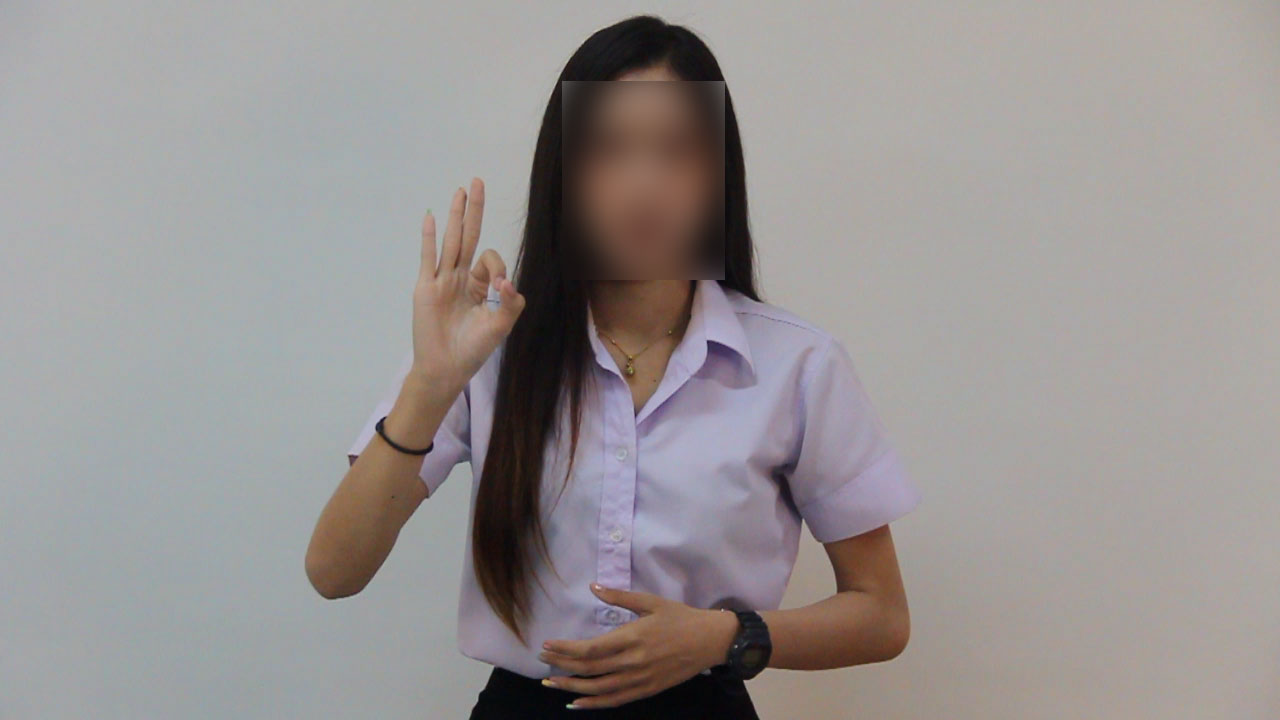for: (386, 160, 536, 400)
